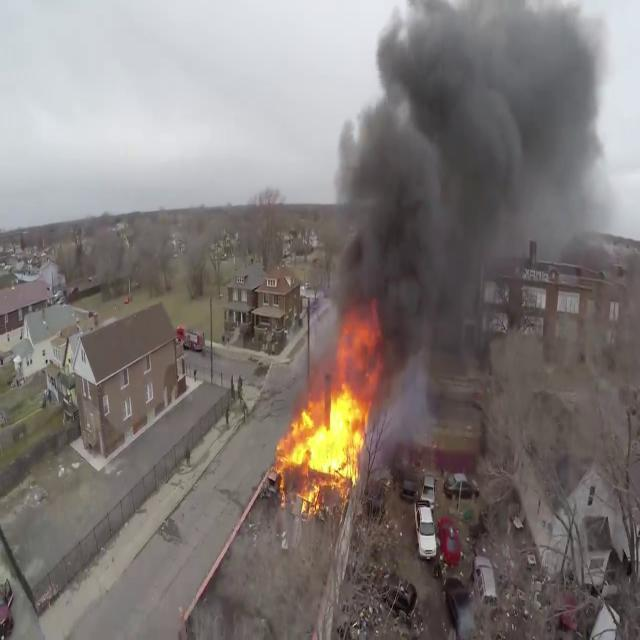Fire: (273, 372, 375, 502)
Smoke: (316, 0, 612, 392)
